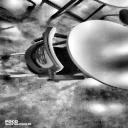chair_fail: (25, 27, 85, 81)
